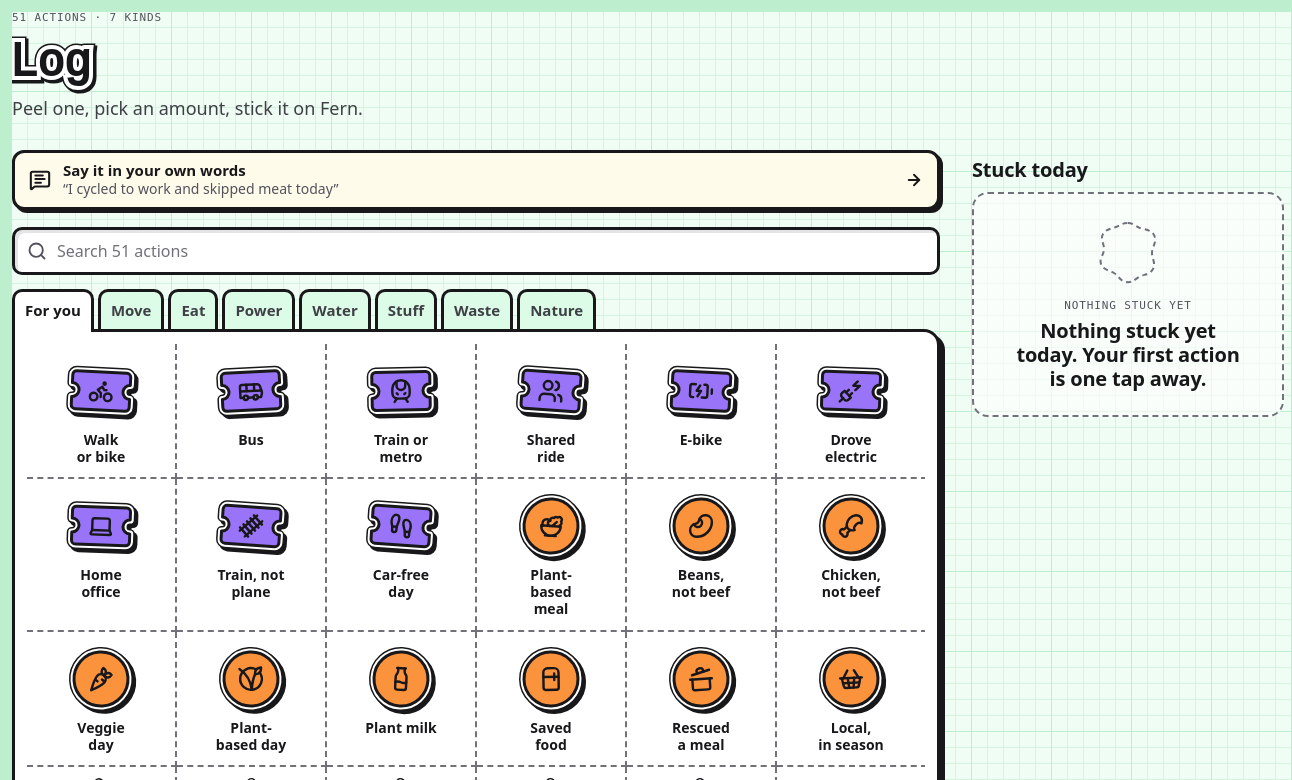
Test: browsing › shows every action under For you and one kind per tab
The width and height of the screenshot is (1292, 780).
Expected: the heading "Log" is shown, [12,34,93,85]
Expected: the text "51 actions · 7 kinds" is shown, [12,11,162,24]
Click the tab "Move".
click(131, 309)  # box [98,289,164,329]
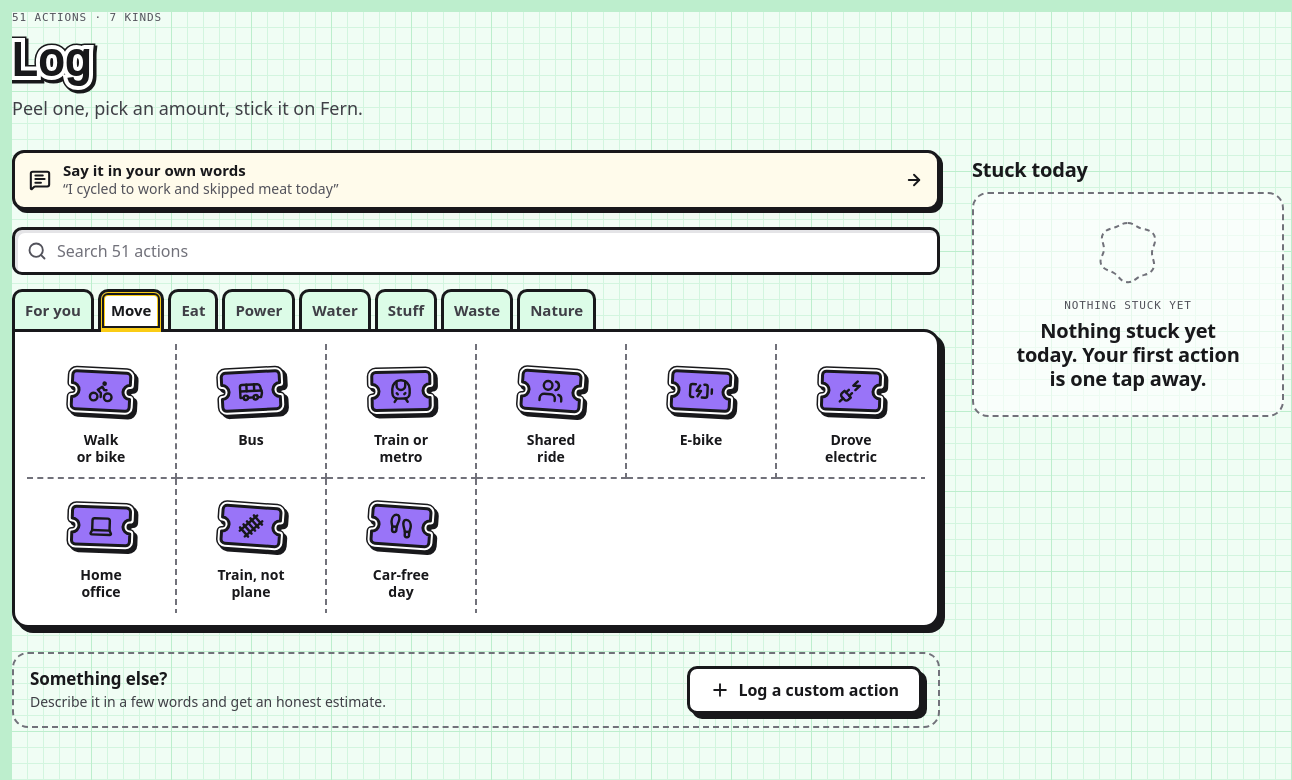
Expected: the button with aria-label "Bus:" is shown, [214,358,288,466]
Now the number of list items is 9
